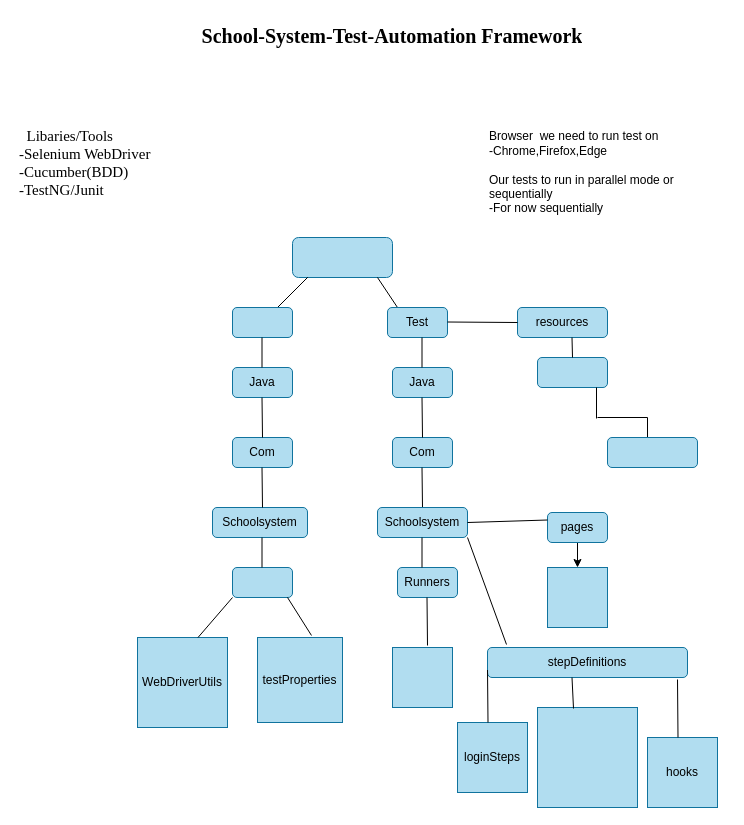
Some shapes in this 744 by 825 pixel diagram are drawn without their labels. The centre of each missing label's shape, as x and y in pixels:
features: (572,372)
invalidLoginSteps: (587,757)
loginPage: (577,597)
loginScenario: (652,452)
Main: (262,322)
runSteps: (422,677)
Src: (342,257)
Utils: (262,582)
